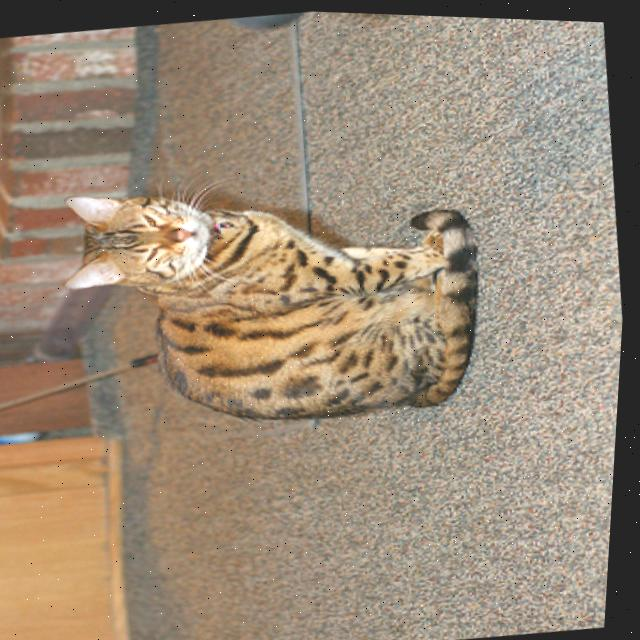Bengal: (35, 138, 511, 455)
